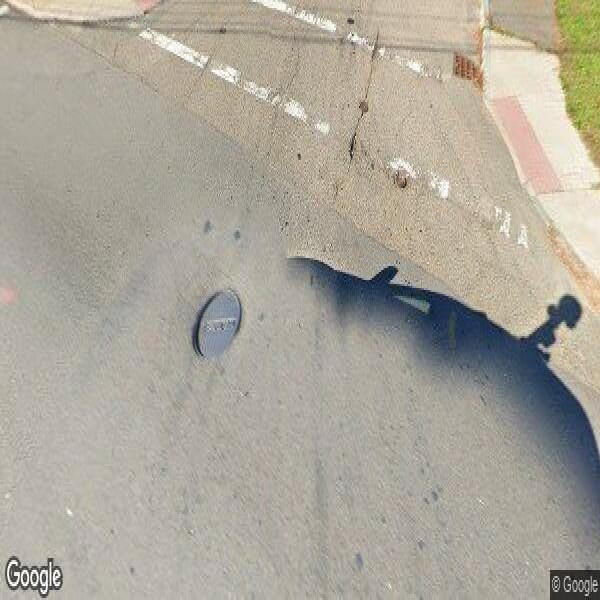manhole: (190, 277, 246, 365)
